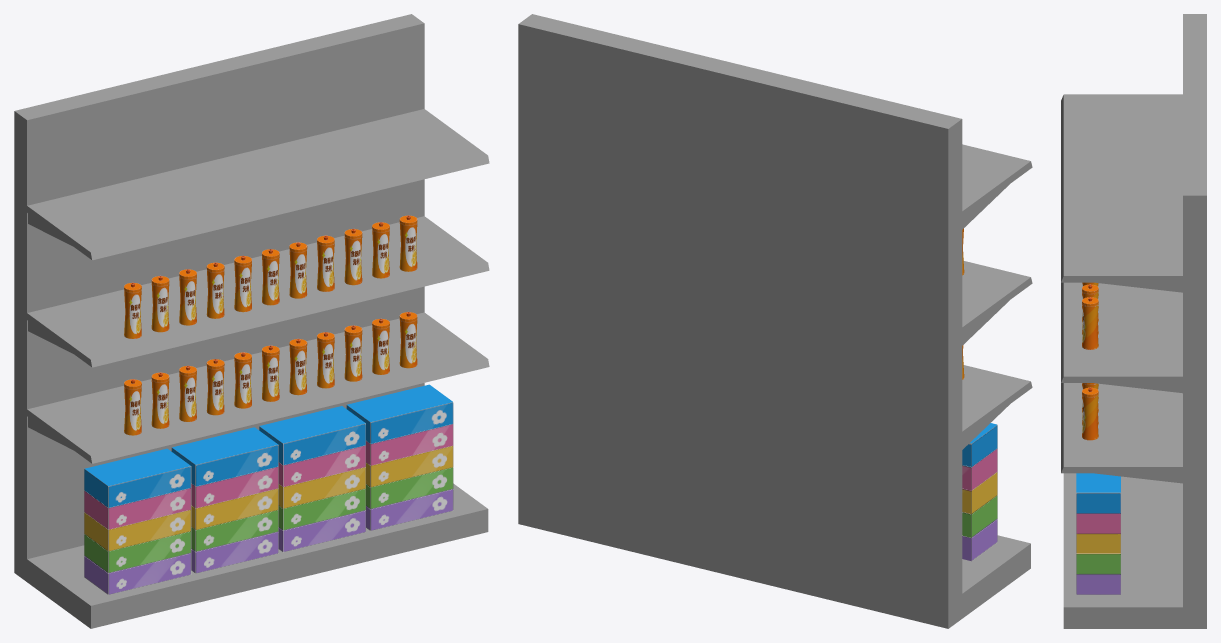
File: shelf_detergent.fbx
3 views of the same model, side by side, from view 1: azimuth 30°, elevation 25°; view 2: azimuth 150°, elevation 25°; view 3: azimuth 270°, elevation 25° (orthographic). The views are drawn at different scales.
Parts seen in each view (by area): view 1: polySurface4; view 2: polySurface4; view 3: polySurface4.
Part boxes in pixels (<box>): polySurface4: <box>14,14,489,628</box>; polySurface4: <box>518,14,1032,628</box>; polySurface4: <box>1061,14,1206,628</box>.
Bounding box in the file's own units: 180 × 200 × 61.04.
